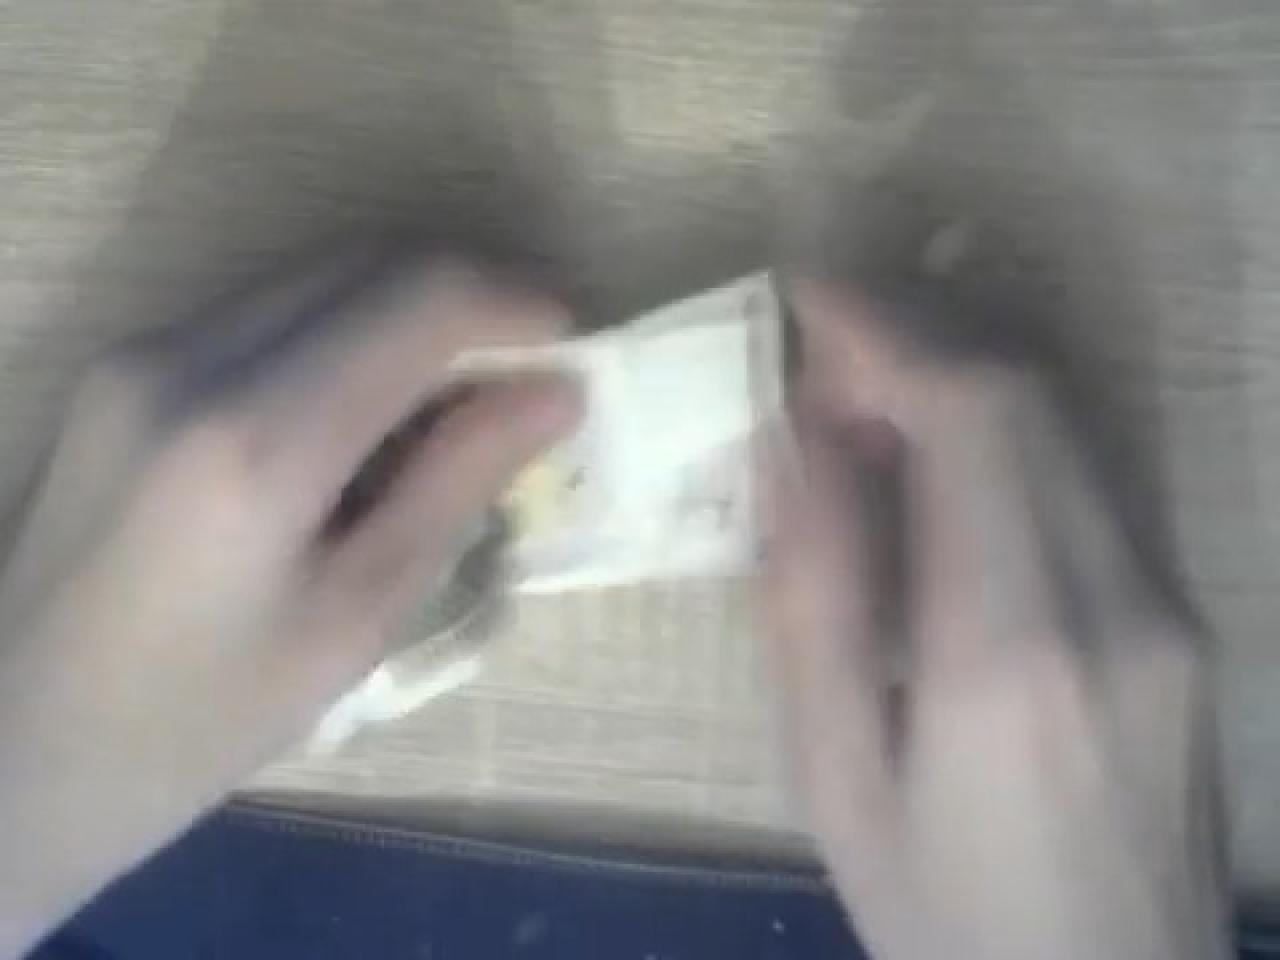10leva: (451, 264, 781, 592)
